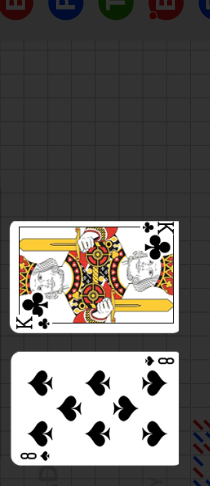8S: (142, 354, 176, 367)
KC: (138, 221, 176, 238)
